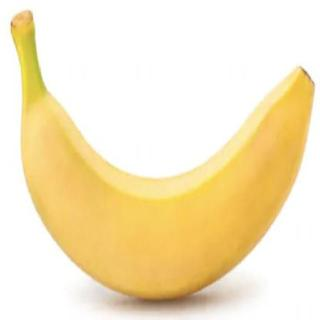banana: (20, 60, 316, 303)
